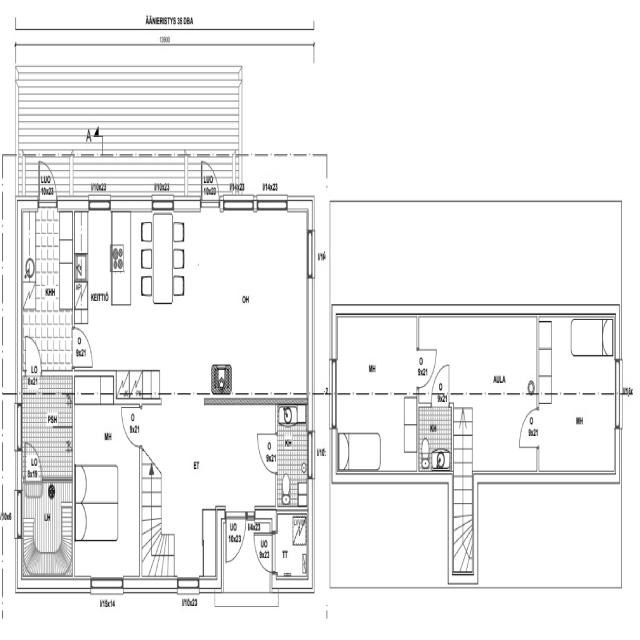door: (224, 510, 247, 565), (120, 397, 143, 449), (199, 156, 221, 208), (517, 402, 540, 450), (255, 428, 278, 474), (72, 323, 95, 369), (253, 526, 275, 574), (416, 345, 438, 387), (38, 158, 57, 206), (24, 333, 43, 372), (432, 360, 450, 400)
window: (88, 570, 125, 594), (613, 359, 624, 434), (221, 192, 255, 215), (255, 191, 288, 214), (304, 226, 316, 280), (176, 570, 202, 594), (174, 194, 202, 214), (87, 192, 111, 212), (13, 398, 22, 451), (278, 569, 306, 586), (150, 195, 175, 213)
zone: (71, 206, 312, 396), (141, 396, 277, 582), (335, 314, 418, 475), (538, 312, 618, 478), (74, 398, 140, 572), (418, 316, 538, 397), (22, 369, 74, 476), (20, 475, 74, 571), (276, 398, 308, 508), (273, 508, 309, 582), (418, 396, 452, 470)
